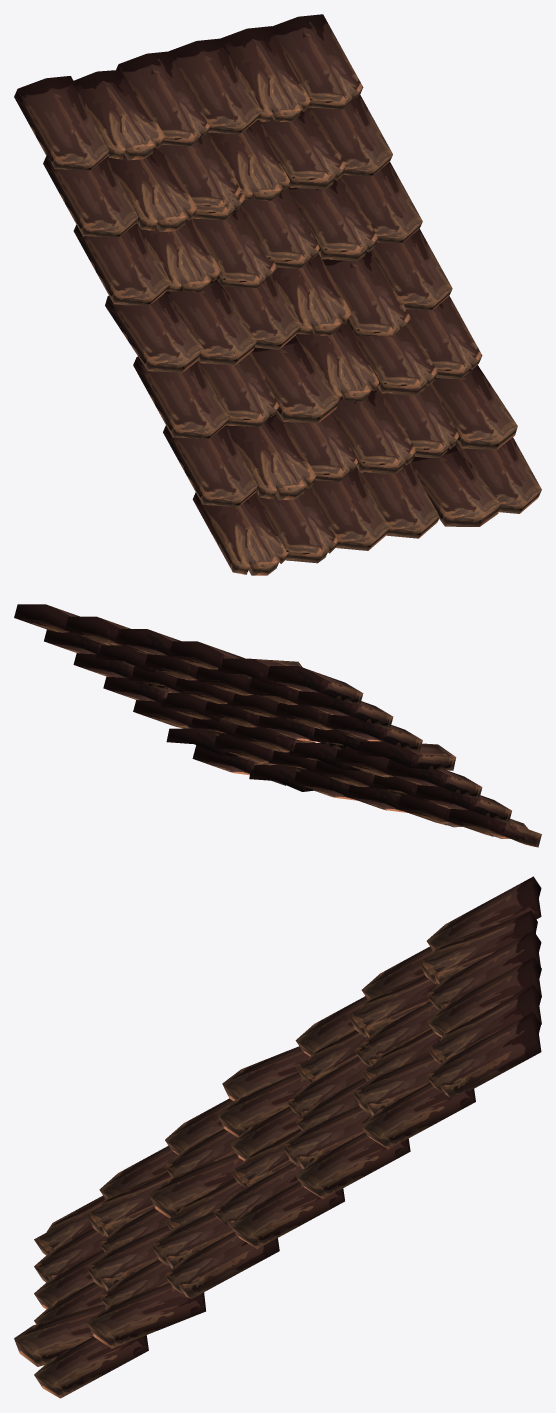
File: VV-RoofTile2.fbx
3 renders of one model, top to bottom at view 1: azimuth 30°, elevation 25°; view 2: azimuth 150°, elevation 25°; view 3: azimuth 270°, elevation 25°, orthographic. The views are drawn at different scales.
Visible parts, largest first — view 1: RoofTile.2; view 2: RoofTile.2; view 3: RoofTile.2.
Boxes of the visible parts, box(x1,y1,x2,y2) form: RoofTile.2: box(14, 14, 541, 575); RoofTile.2: box(14, 604, 541, 847); RoofTile.2: box(14, 876, 541, 1398).
Bounding box in the file's own units: 1.82 × 1.91 × 2.47.
